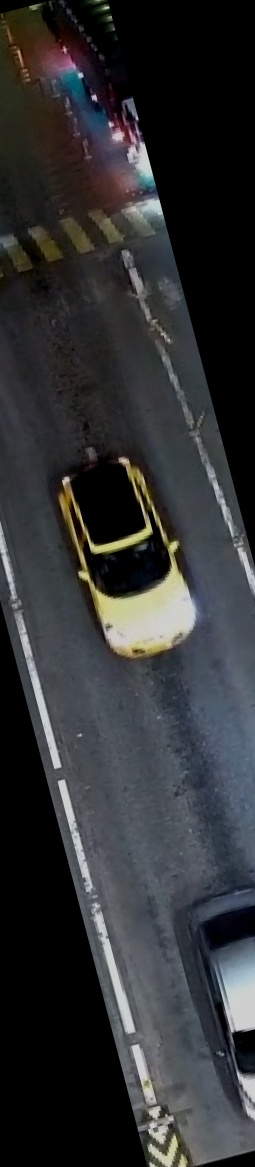car: (30, 435, 220, 682), (166, 861, 255, 1143)
